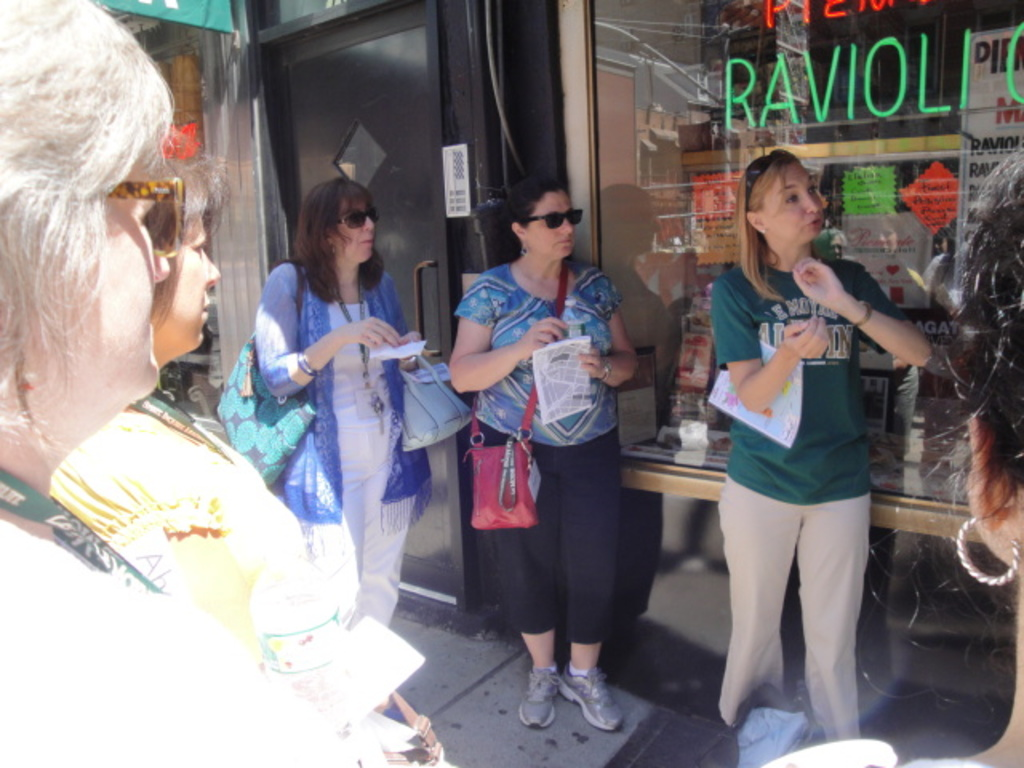Footwear: (555, 662, 624, 731)
